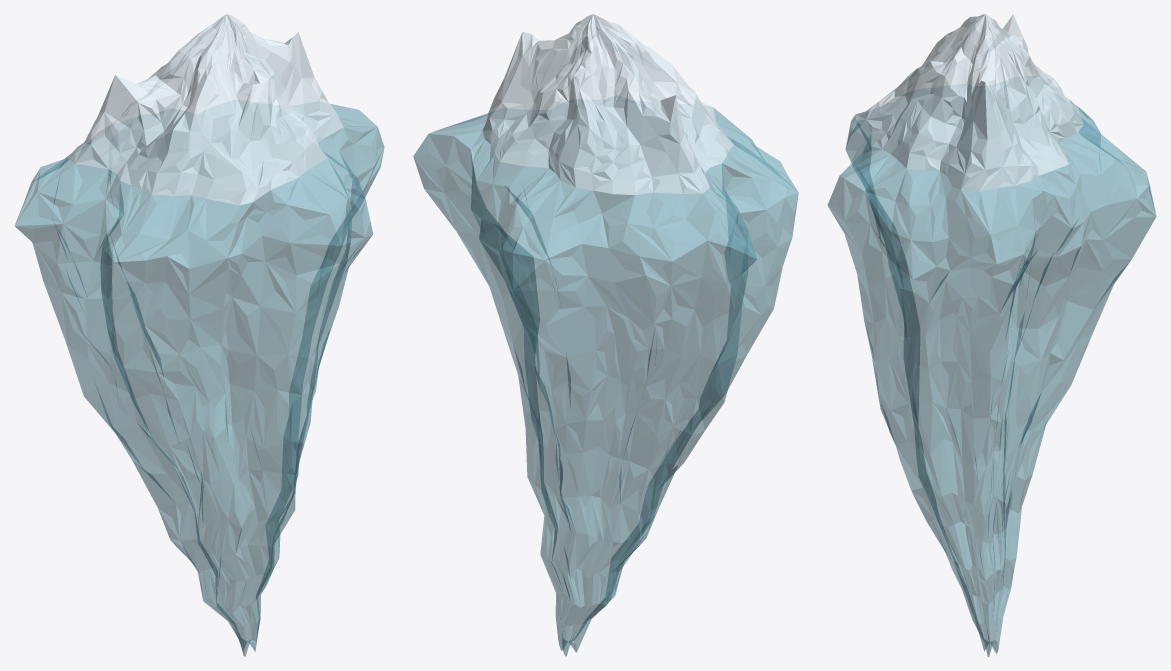
Rendered from iceberg-b.glb.
3 renders of one model, left to right at view 1: azimuth 30°, elevation 25°; view 2: azimuth 150°, elevation 25°; view 3: azimuth 270°, elevation 25°, orthographic. The views are drawn at different scales.
Parts seen in each view (by area): view 1: ice_below, ice_above; view 2: ice_below, ice_above; view 3: ice_below, ice_above.
Part boxes in pixels (box(x1,y1,x2,y2)): ice_below: box(14, 104, 384, 656); ice_above: box(67, 14, 343, 205); ice_below: box(413, 99, 798, 656); ice_above: box(482, 14, 733, 194); ice_below: box(827, 77, 1156, 656); ice_above: box(855, 14, 1083, 191).
Bounding box in the file's own units: 56.93 × 100 × 47.36.
